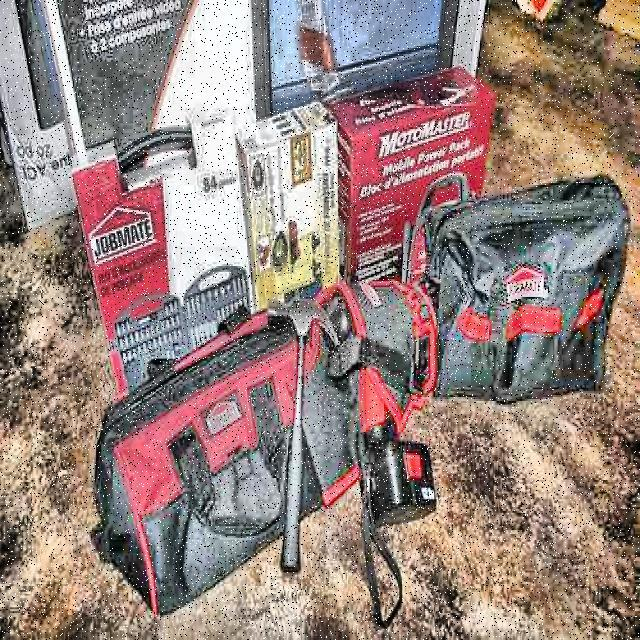hammer: (264, 294, 342, 576)
